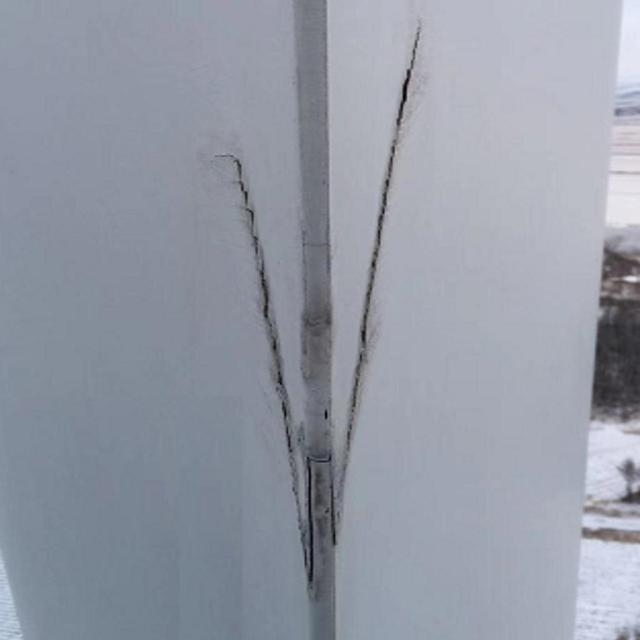crack: (340, 31, 420, 544), (224, 151, 308, 572)
